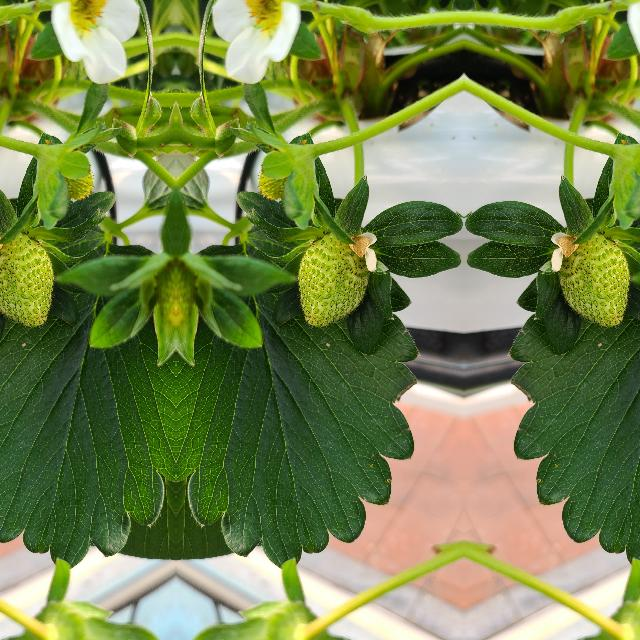Health_25: (294, 232, 370, 331), (556, 232, 632, 331), (0, 231, 55, 330)
